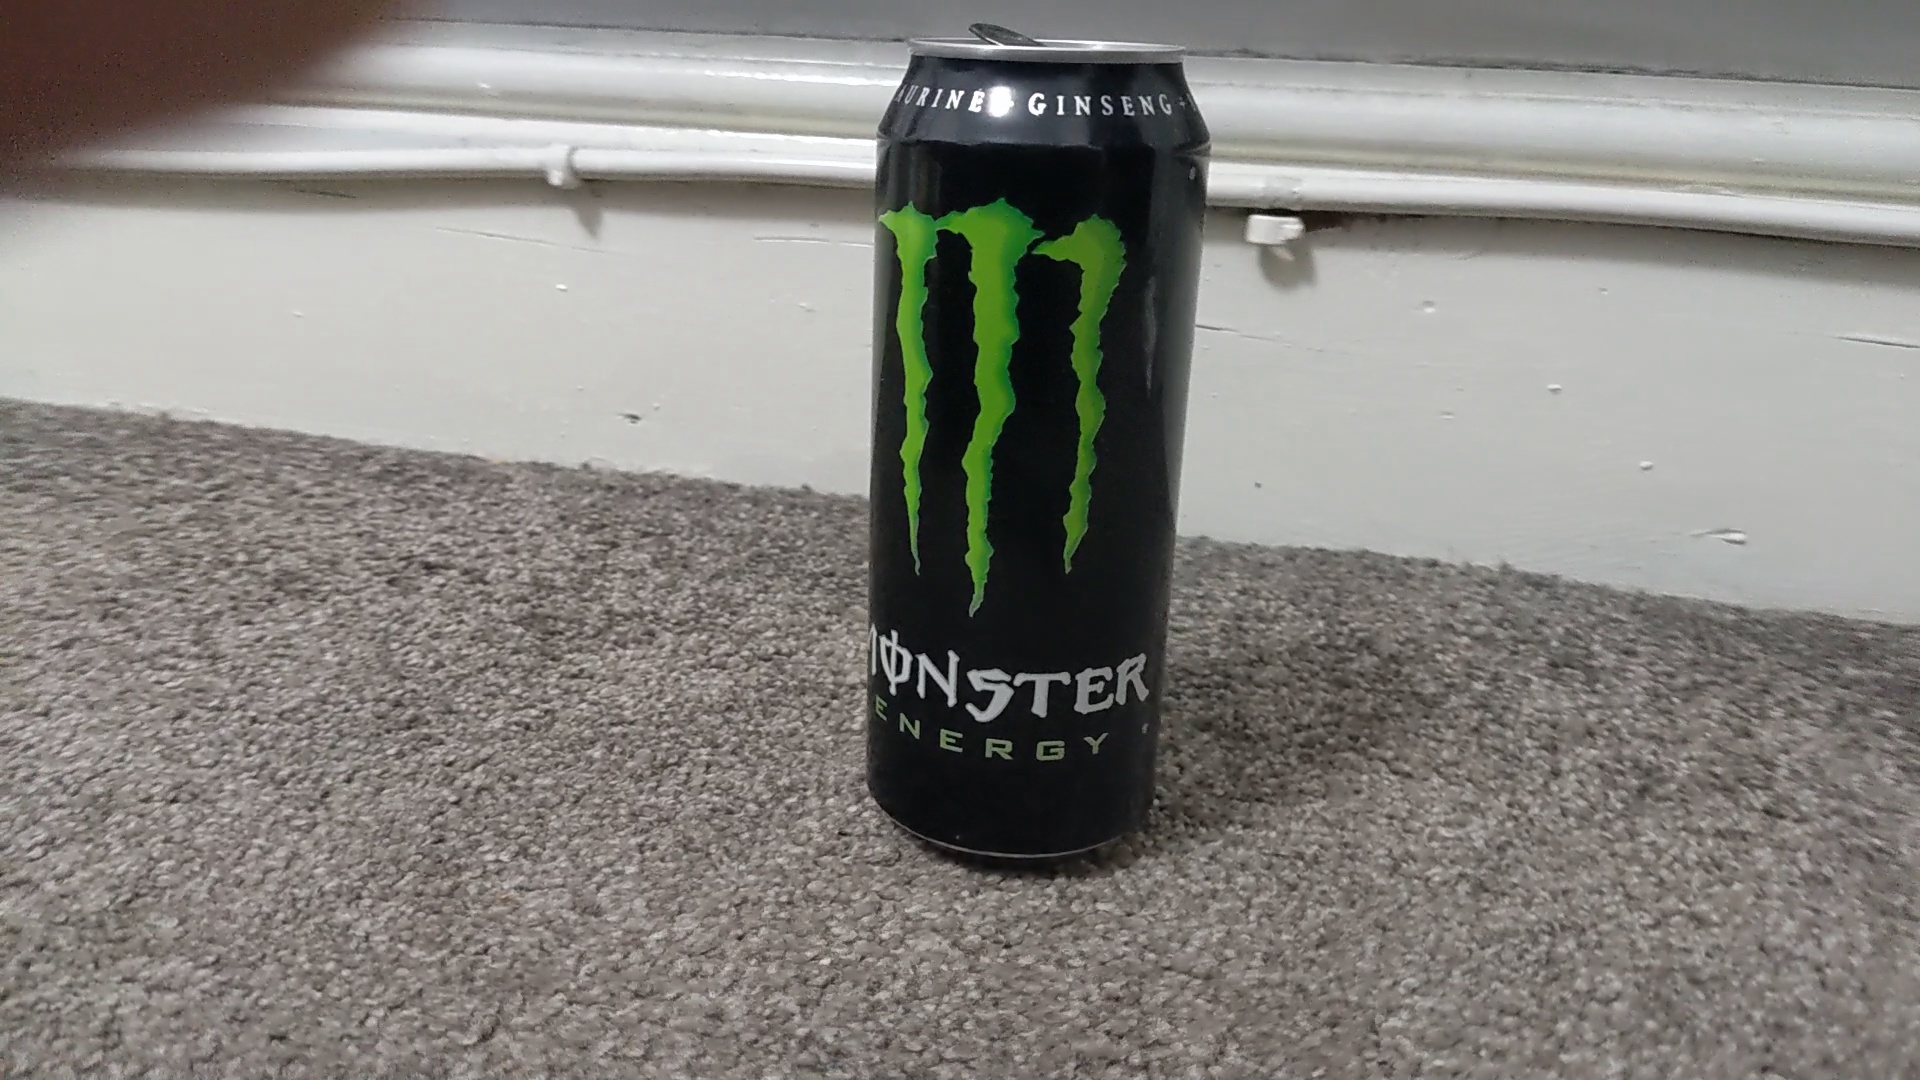monster-original: (866, 40, 1215, 862)
